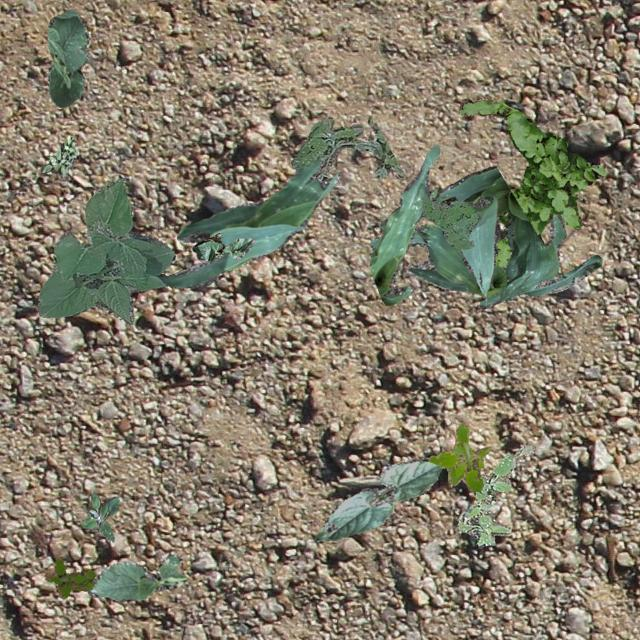crop: (379, 165, 552, 308), (156, 156, 338, 286), (36, 176, 175, 324), (368, 214, 602, 296), (369, 143, 438, 304), (314, 458, 440, 542), (86, 554, 185, 600), (46, 8, 88, 106), (192, 238, 254, 260)
weed: (458, 96, 604, 266), (456, 444, 534, 546), (291, 116, 404, 180), (428, 422, 488, 491), (420, 195, 480, 248), (44, 558, 94, 596), (80, 492, 118, 540), (40, 134, 76, 177), (428, 188, 457, 205)
